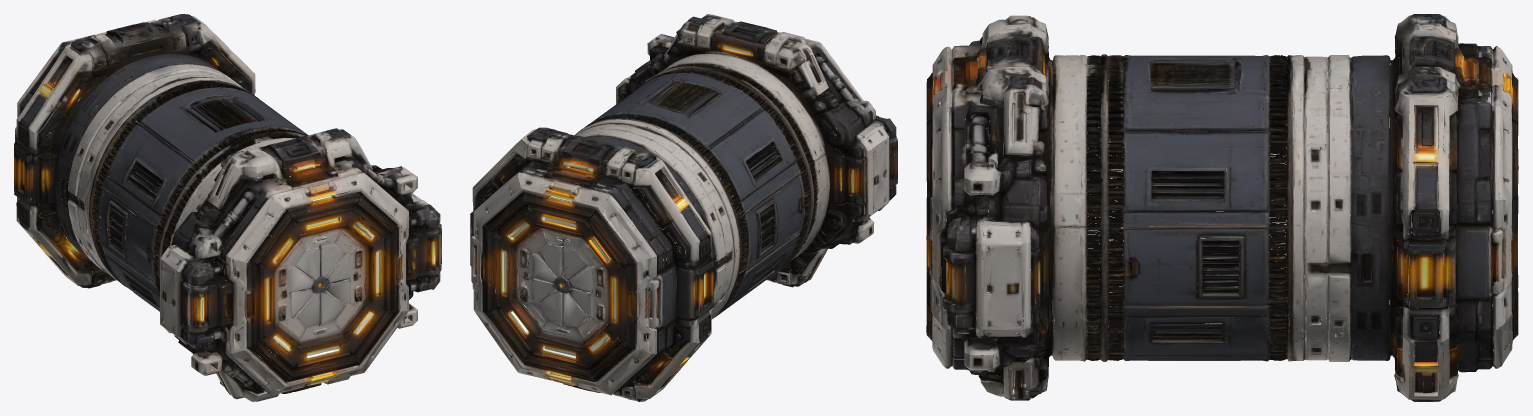
File: docking-airlock.glb
3 views of the same model, side by side, from view 1: azimuth 30°, elevation 25°; view 2: azimuth 150°, elevation 25°; view 3: azimuth 270°, elevation 25° (orthographic). The views are drawn at different scales.
Visible parts, largest first — view 1: node_0; view 2: node_0; view 3: node_0.
Part boxes in pixels (x1,y1,x2,y2): node_0: (14,14,441,401); node_0: (470,14,897,401); node_0: (926,14,1518,401).
Size of the model in its own units: 0.7002 by 0.6328 by 1.06.
1 material, 1 textured.
